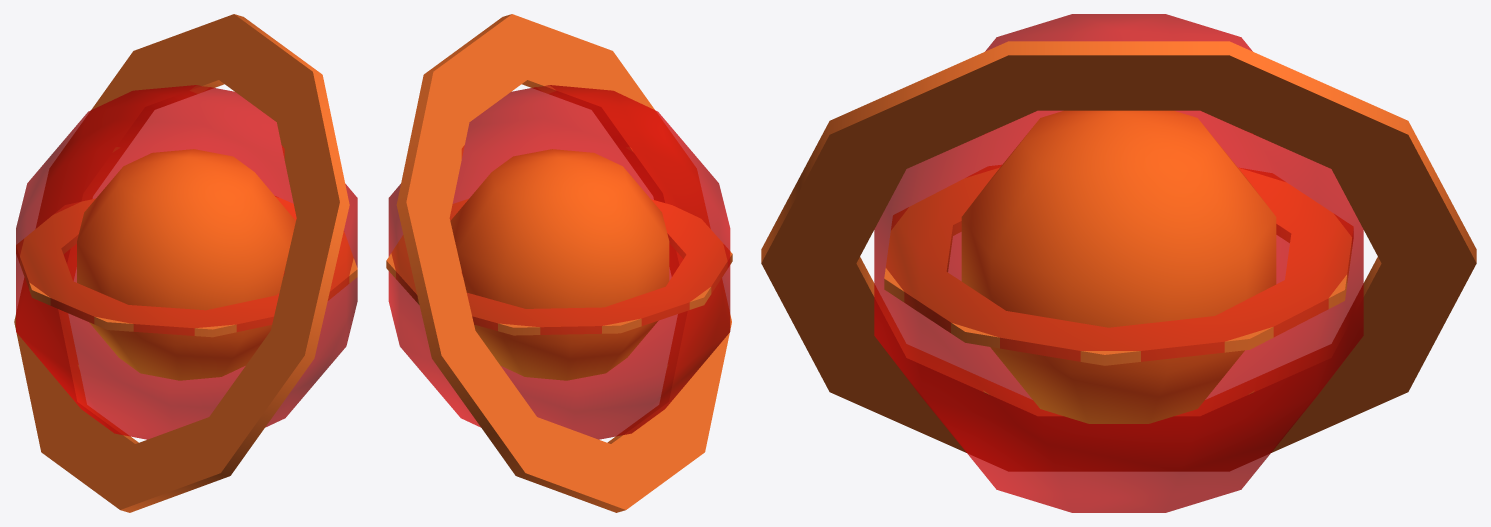
File: Enemy_Attack19.obj
3 renders of one model, left to right at view 1: azimuth 30°, elevation 25°; view 2: azimuth 150°, elevation 25°; view 3: azimuth 270°, elevation 25°, orthographic. The views are drawn at different scales.
Parts seen in each view (by area): view 1: Sphere002, Tube001, Sphere001, Tube002; view 2: Sphere002, Tube001, Sphere001, Tube002; view 3: Sphere002, Tube001, Sphere001, Tube002.
Boxes of the visible parts, box(x1,y1,x2,y2) form: Sphere002: box(16, 85, 357, 439); Tube001: box(14, 14, 349, 512); Sphere001: box(77, 149, 295, 380); Tube002: box(16, 196, 357, 337); Sphere002: box(388, 85, 730, 439); Tube001: box(396, 14, 731, 512); Sphere001: box(450, 149, 669, 380); Tube002: box(386, 199, 732, 335); Sphere002: box(874, 14, 1363, 512); Tube001: box(761, 41, 1476, 471); Sphere001: box(961, 110, 1276, 423); Tube002: box(884, 165, 1353, 365).
Size of the model in its own units: 21.49 by 27.19 by 31.73.
